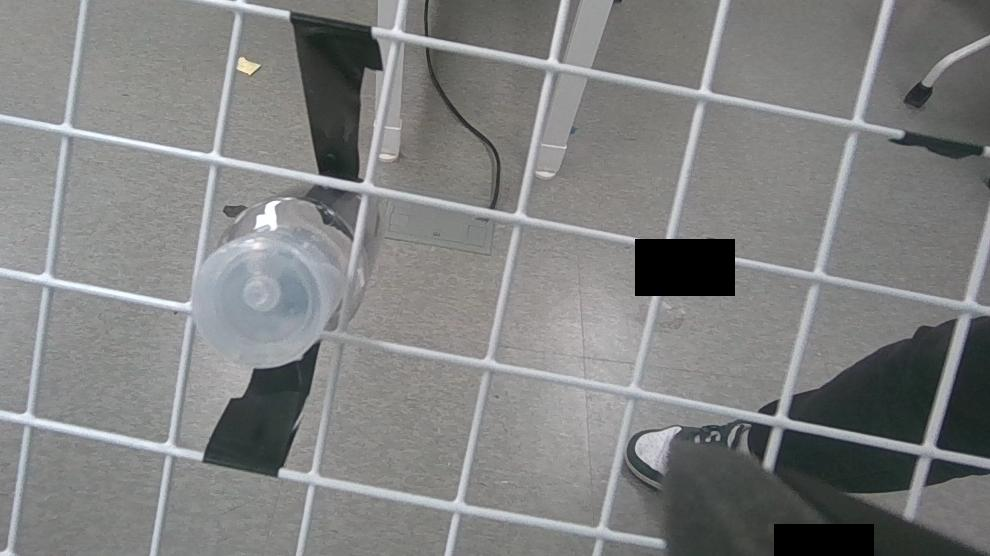Cap: (188, 231, 329, 370)
